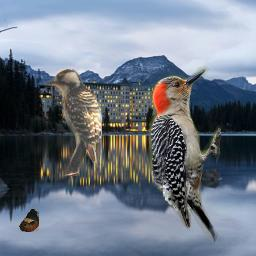Swallow: (19, 209, 39, 232)
Woodpecker: (143, 64, 221, 252), (44, 68, 102, 176)
